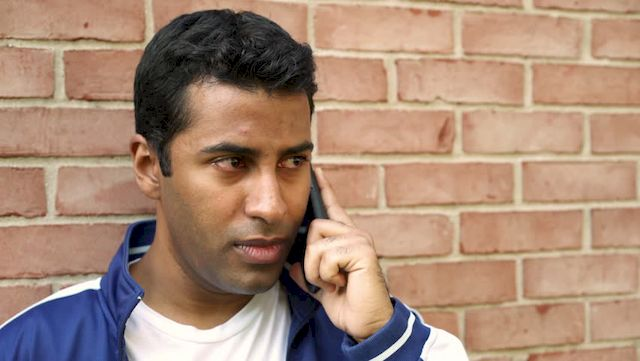phone: (291, 150, 361, 294)
talk: (176, 135, 385, 337)
